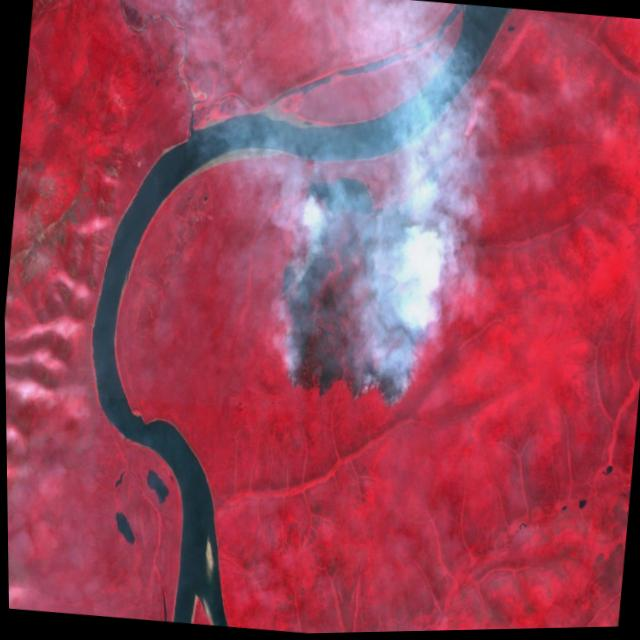fire: (267, 356, 429, 419)
